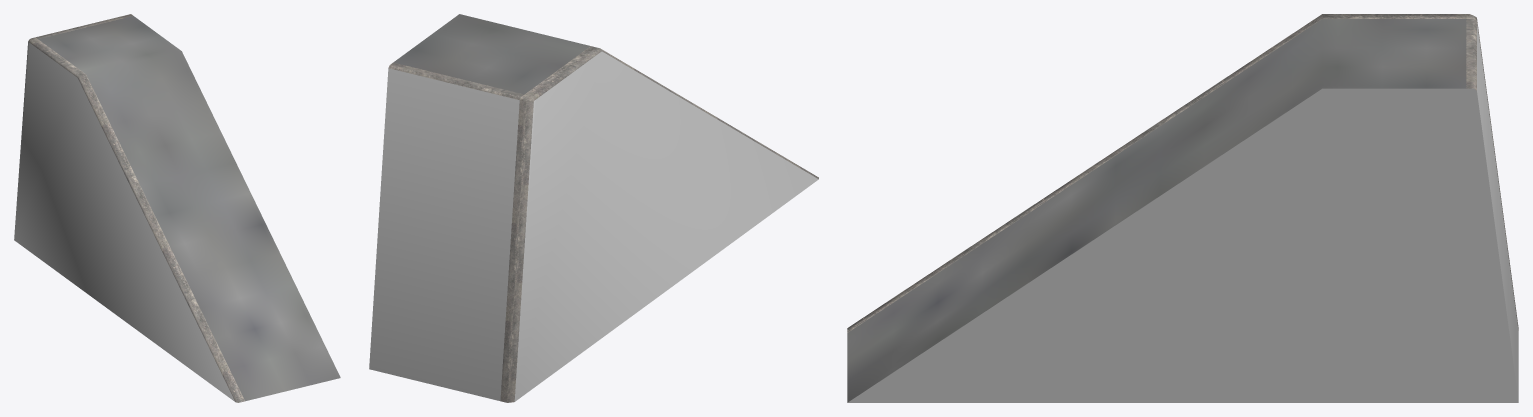
The model's file is JpHouseJ_StoneWall_slope12r.fbx.
3 views of the same model, side by side, from view 1: azimuth 30°, elevation 25°; view 2: azimuth 150°, elevation 25°; view 3: azimuth 270°, elevation 25° (orthographic). The views are drawn at different scales.
Visible parts, largest first — view 1: JpHouseJ_StoneWall_slope12r; view 2: JpHouseJ_StoneWall_slope12r; view 3: JpHouseJ_StoneWall_slope12r.
Part boxes in pixels (x1=…): JpHouseJ_StoneWall_slope12r: x1=14, y1=14, x2=340, y2=402; JpHouseJ_StoneWall_slope12r: x1=369, y1=14, x2=818, y2=402; JpHouseJ_StoneWall_slope12r: x1=847, y1=14, x2=1518, y2=402.
Bounding box in the file's own units: 2.11 × 4.08 × 7.9.
